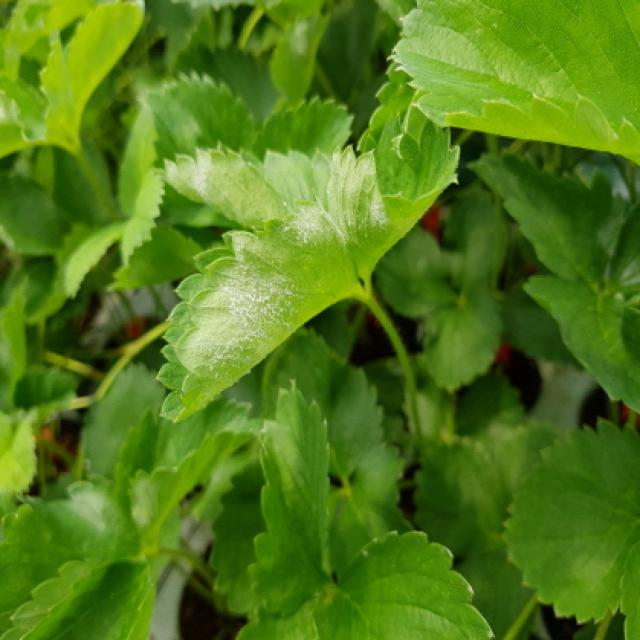Powdery Mildew Leaf: (157, 194, 367, 423), (160, 94, 355, 230), (326, 92, 460, 288)
